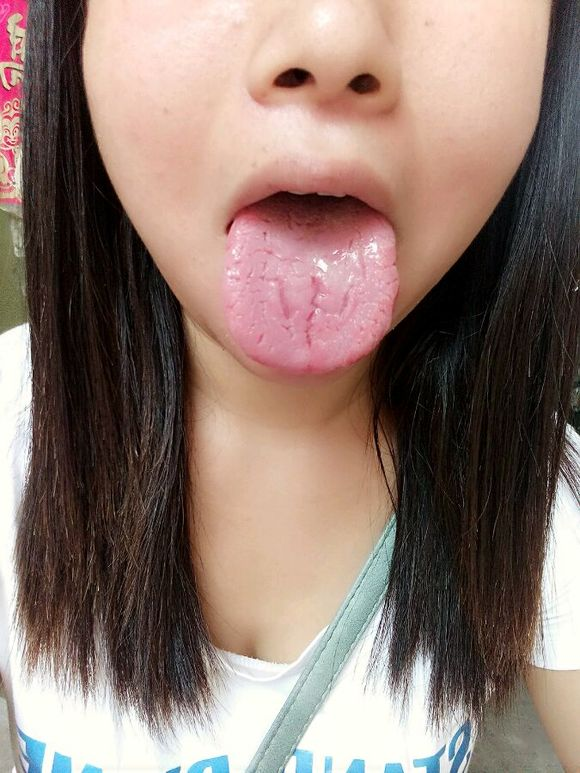hongshe: (224, 196, 399, 374)
liewenshe: (259, 221, 327, 352)
